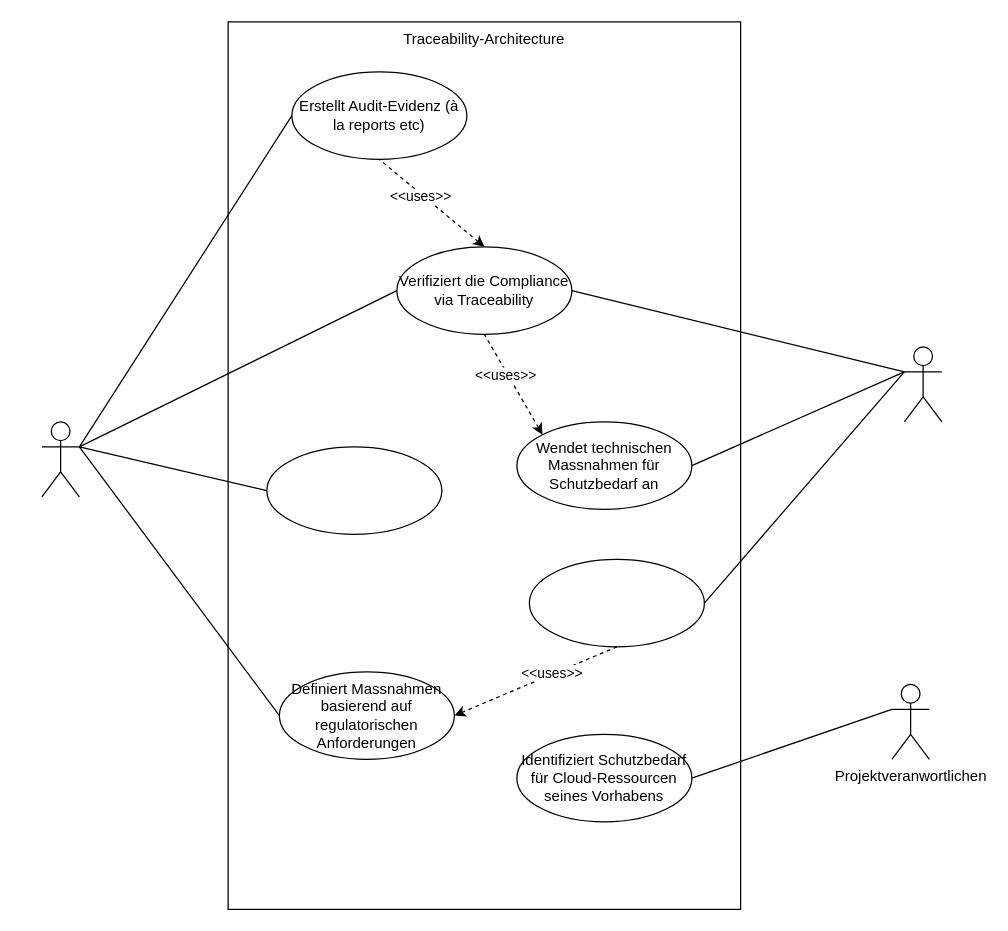
The diagram is 1008 pixels wide and 931 high, and some of its shapes have lost their labels. Each missing label, with the centre of its shape:
"Cloud Expert" belongs at [922,384].
"Compliance Officer" belongs at [60,459].
"Definiert techischen Massnahmen für Schutzbedarf" belongs at [616,602].
"Interpretiert Regulatorien und definiert Anforderungen" belongs at [354,490].
